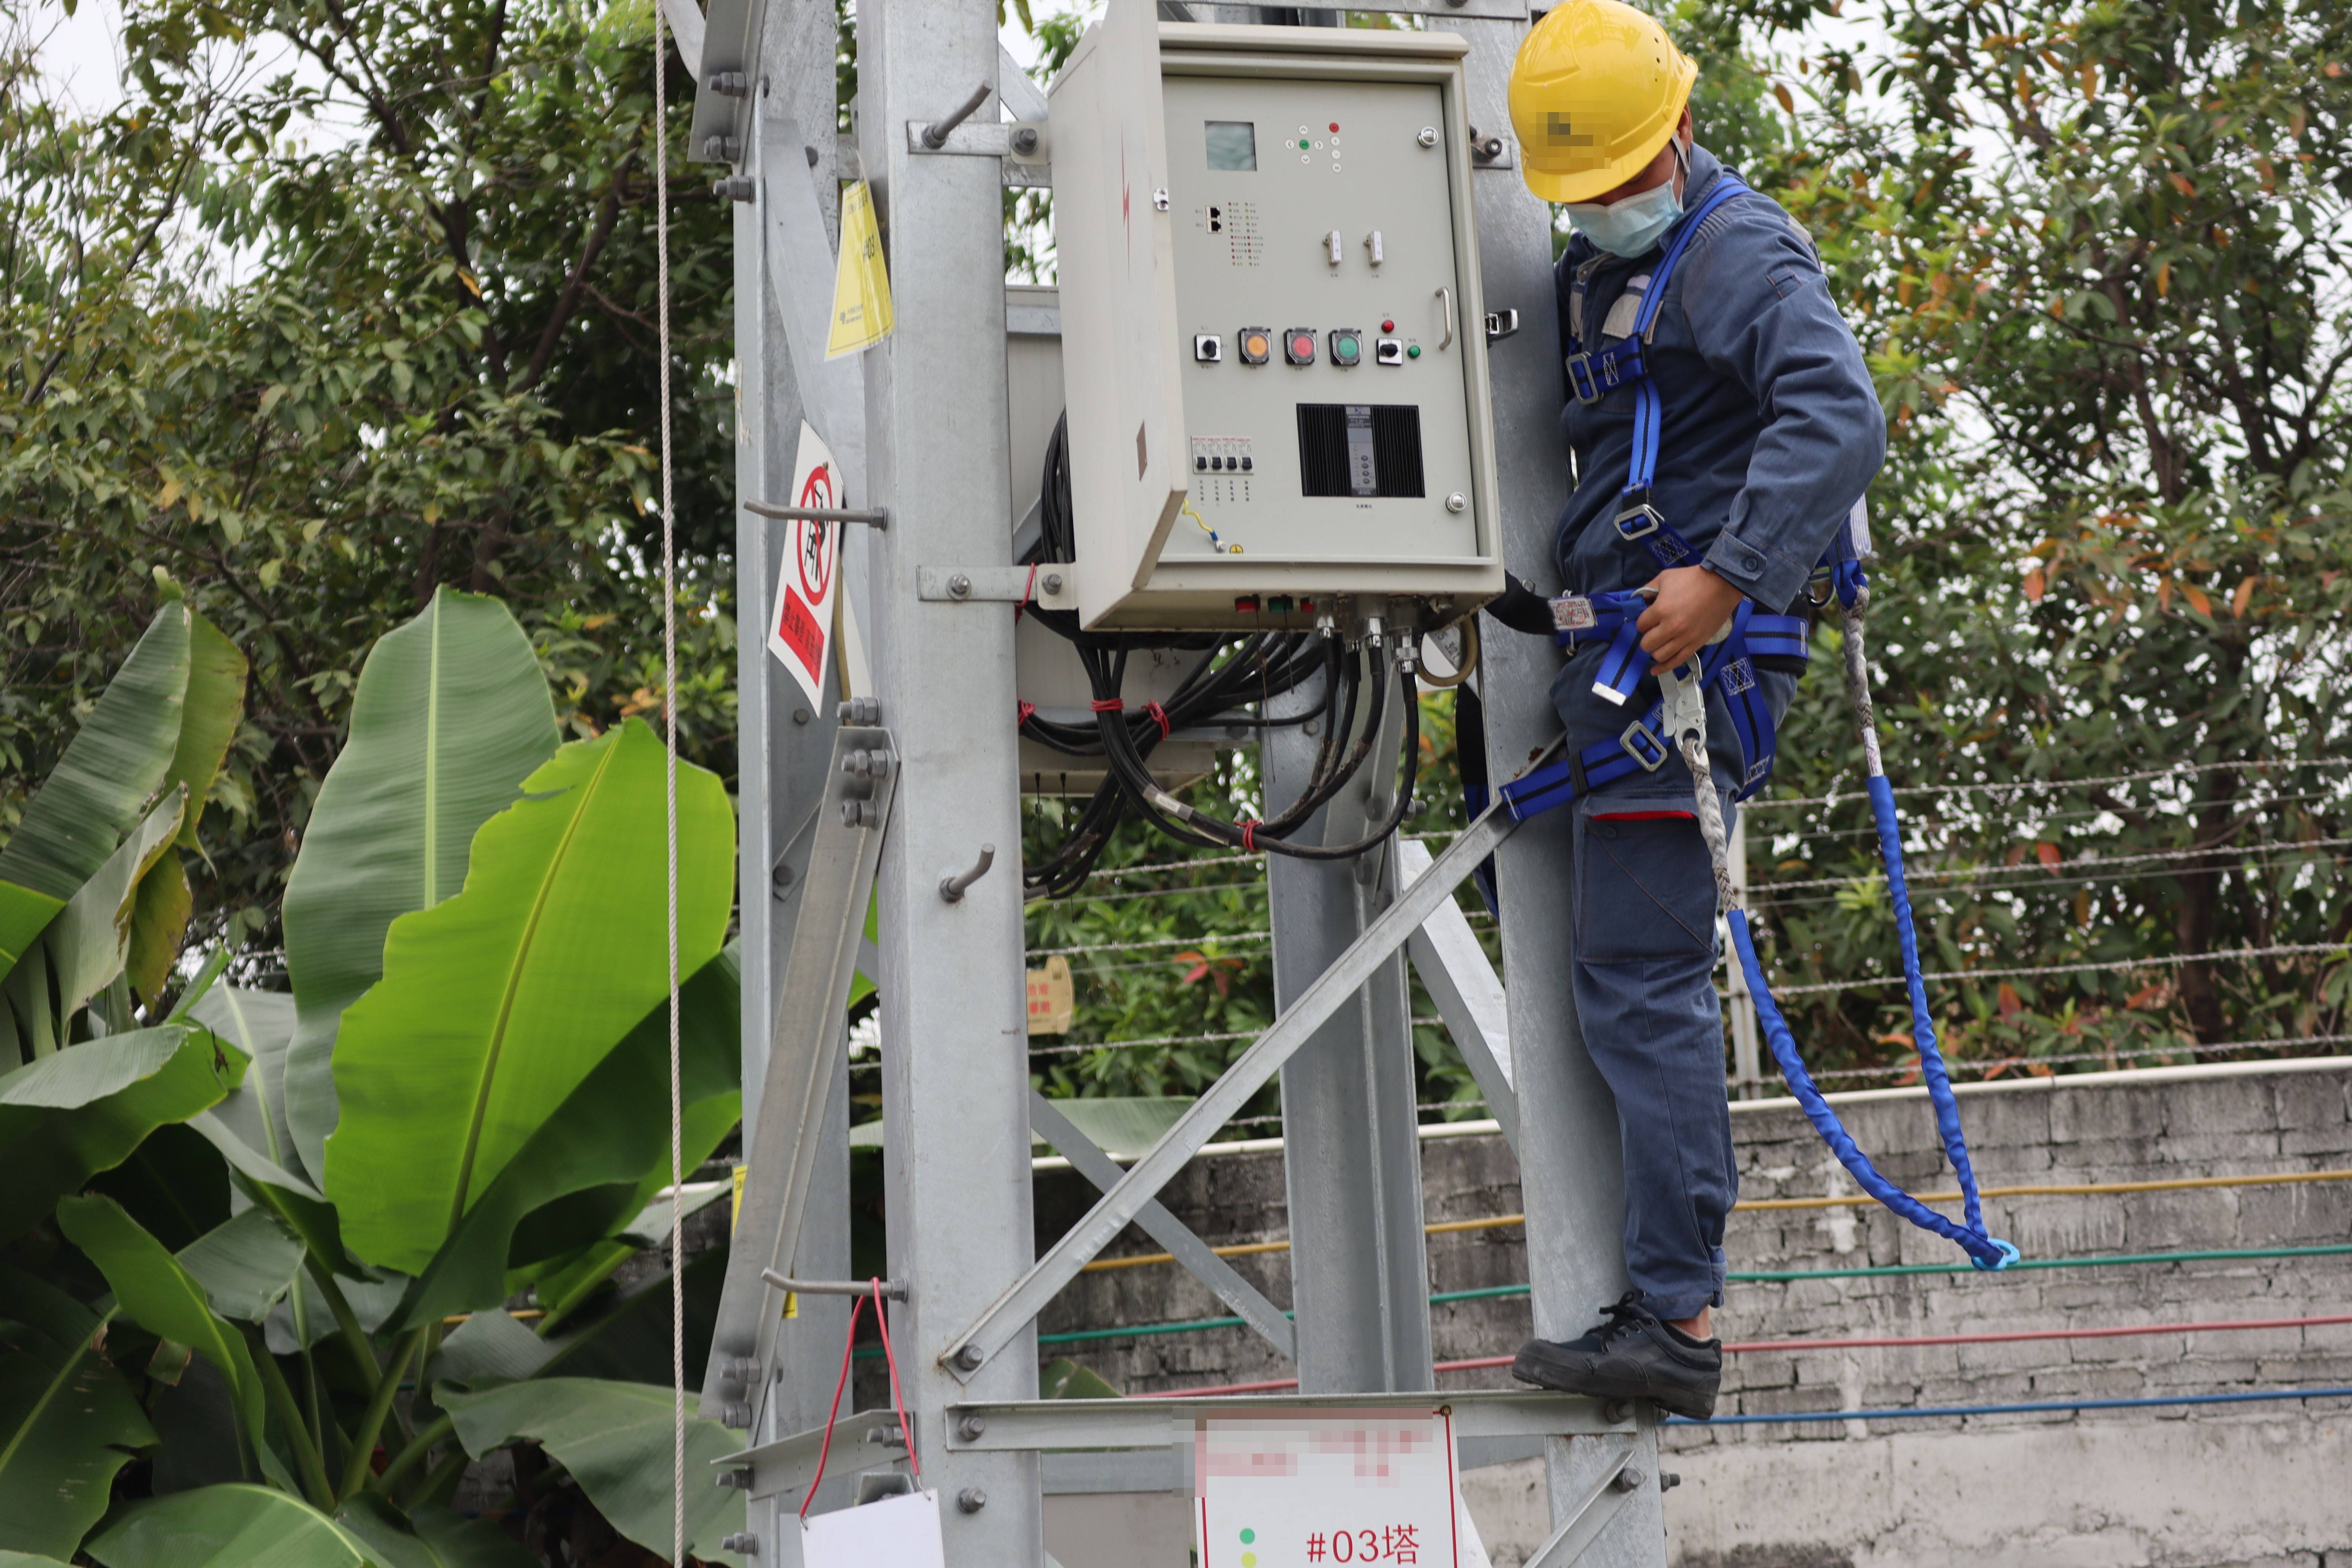downsuit: (1556, 625, 1797, 1304)
upsuit: (1561, 198, 1843, 588)
